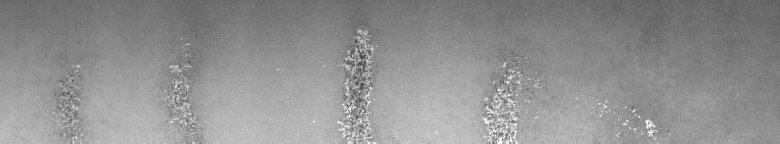hc: (335, 22, 378, 136)
